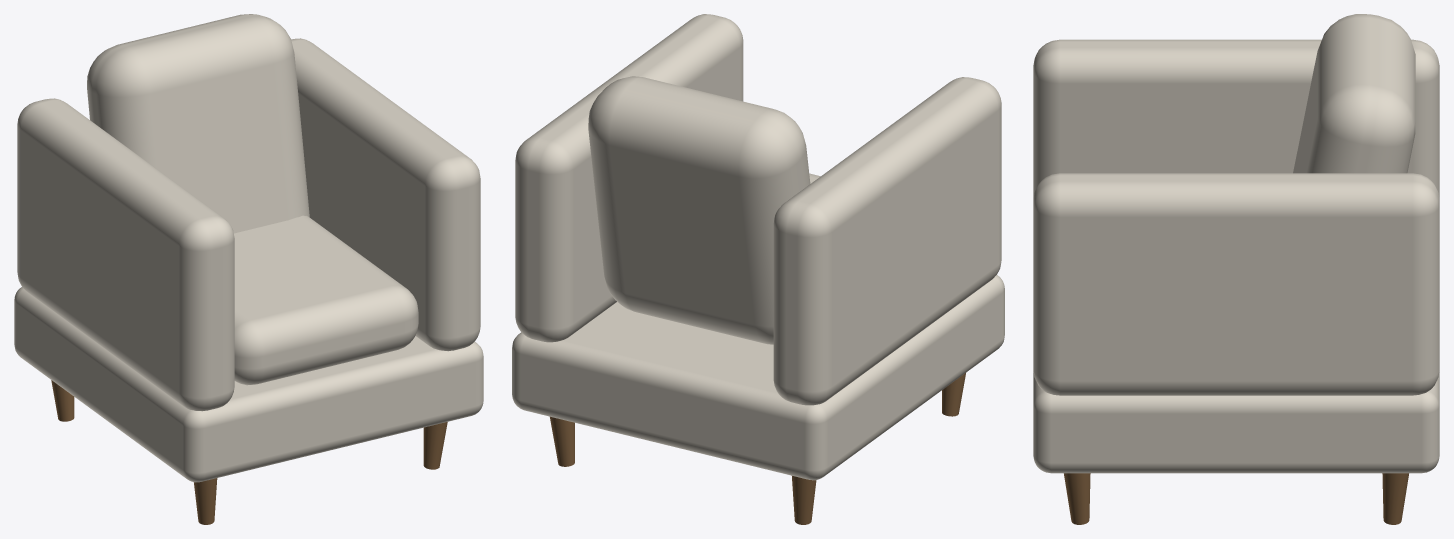
File: chair.glb
3 renders of one model, left to right at view 1: azimuth 30°, elevation 25°; view 2: azimuth 150°, elevation 25°; view 3: azimuth 270°, elevation 25°, orthographic. The views are drawn at different scales.
Bounding box in the file's own units: 0.85 × 0.9988 × 0.9.
